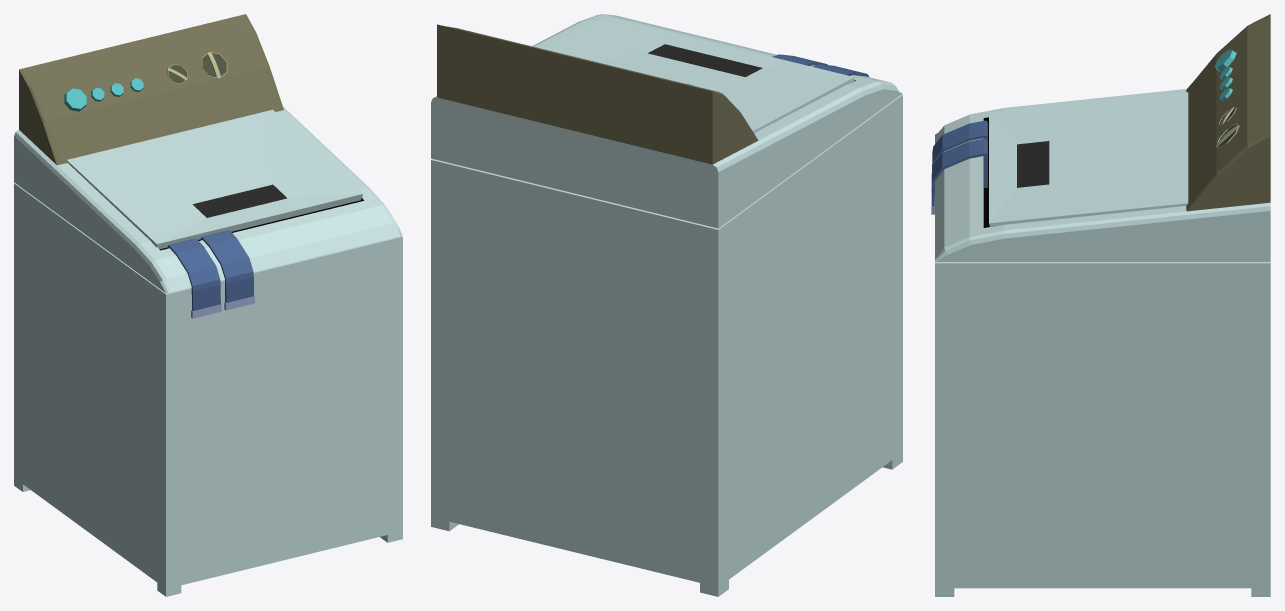
File: MaquinaLavar.fbx
The picture shows the model from 3 angles, left to right: view 1: azimuth 30°, elevation 25°; view 2: azimuth 150°, elevation 25°; view 3: azimuth 270°, elevation 25°; orthographic projection. The views are drawn at different scales.
Parts seen in each view (by area): view 1: Cube, Cube.005, Cube.002, Cube.006, Cube.007; view 2: Cube, Cube.002, Cube.005, Cube.001; view 3: Cube, Cube.005, Cube.002, Cube.007, Cube.006.
Part boxes in pixels (x1,y1,x2,y2): Cube: (14, 107, 402, 588); Cube.005: (66, 109, 362, 249); Cube.002: (19, 14, 283, 164); Cube.006: (167, 238, 221, 318); Cube.007: (201, 230, 254, 310); Cube: (431, 14, 902, 587); Cube.002: (437, 24, 758, 164); Cube.005: (543, 16, 854, 132); Cube.001: (431, 452, 902, 596); Cube: (935, 89, 1270, 588); Cube.005: (989, 92, 1188, 227); Cube.002: (1186, 14, 1270, 211); Cube.007: (931, 138, 987, 214); Cube.006: (931, 120, 987, 191).
Bounding box in the file's own units: 62.5 × 105 × 70.25.
